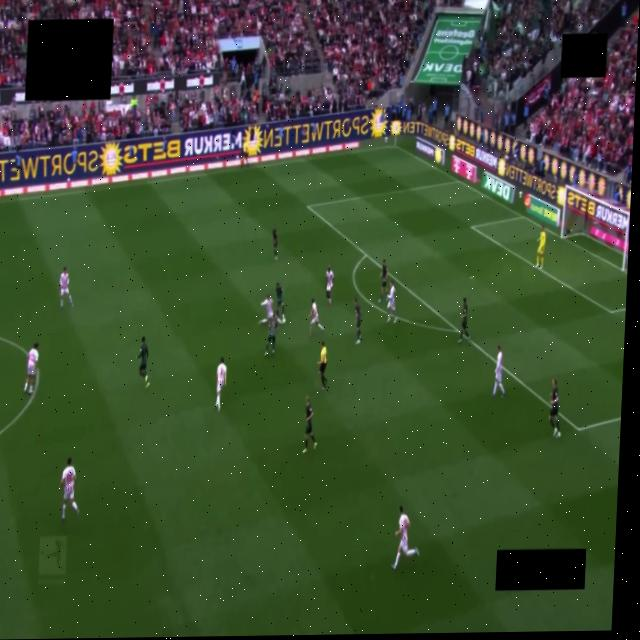player: (391, 506, 418, 569), (60, 458, 78, 520), (302, 396, 316, 453), (264, 311, 281, 356), (24, 343, 38, 393), (491, 345, 504, 397), (215, 356, 226, 412), (549, 379, 559, 437), (137, 337, 148, 388), (59, 267, 72, 310), (309, 299, 323, 335), (458, 298, 469, 343), (378, 259, 389, 302), (258, 295, 273, 324), (535, 226, 545, 269), (386, 281, 396, 323), (353, 299, 361, 345), (325, 267, 334, 306), (275, 284, 284, 323), (272, 225, 277, 260)
referee: (318, 341, 326, 390)
